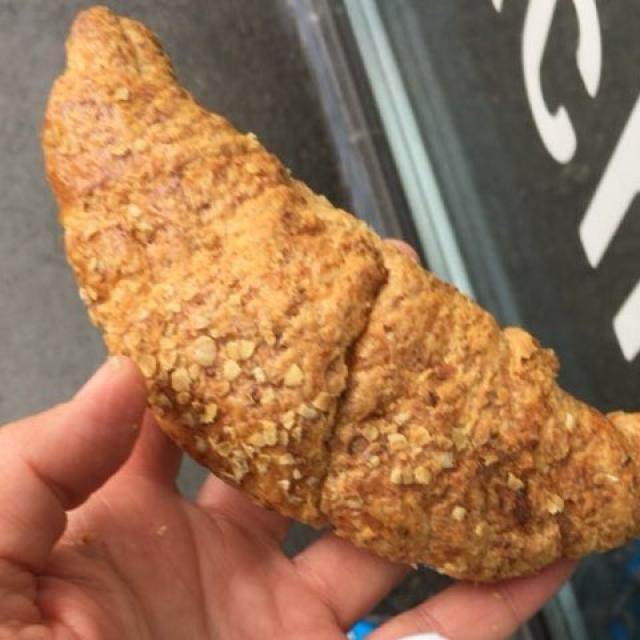croissant: (45, 39, 635, 573)
